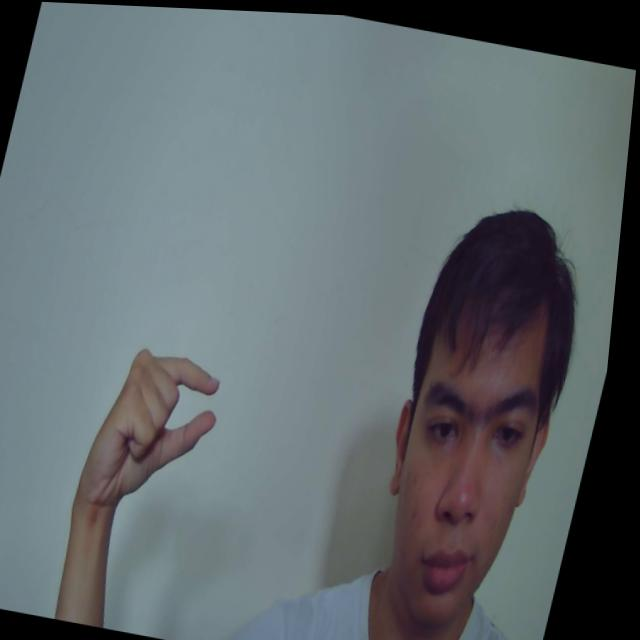G: (82, 338, 240, 522)
